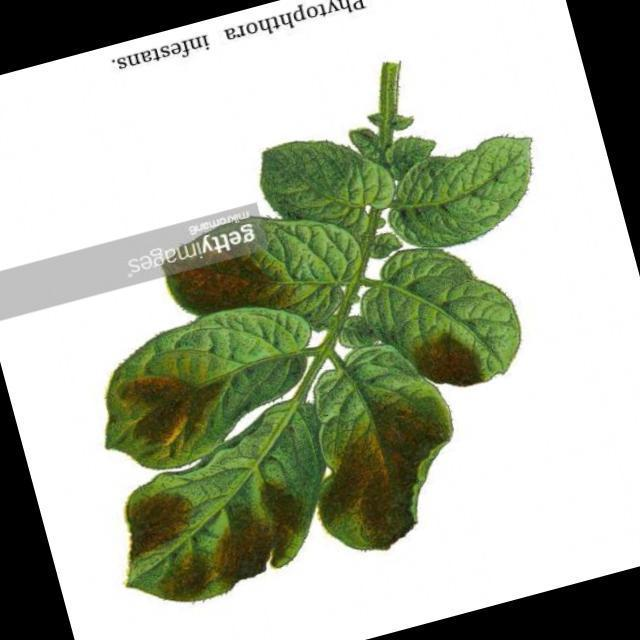Healthy Leaf: (378, 128, 560, 259)
